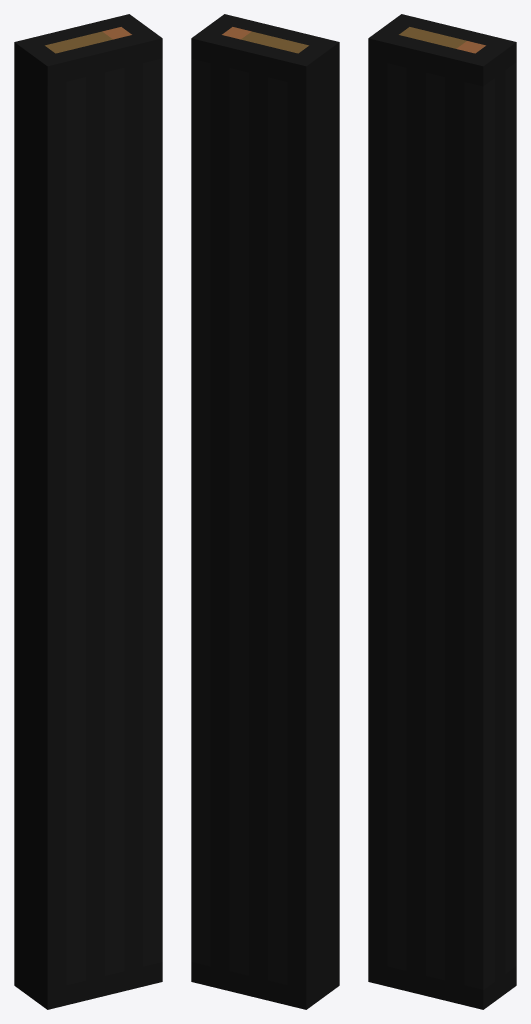
Rendered from Mp40_mag_full.obj.
3 views of the same model, side by side, from view 1: azimuth 30°, elevation 25°; view 2: azimuth 150°, elevation 25°; view 3: azimuth 330°, elevation 25° (orthographic).
Size of the model in its own units: 0.6 by 4.7 by 0.3.
Materials: 1 (1 with a texture image).
